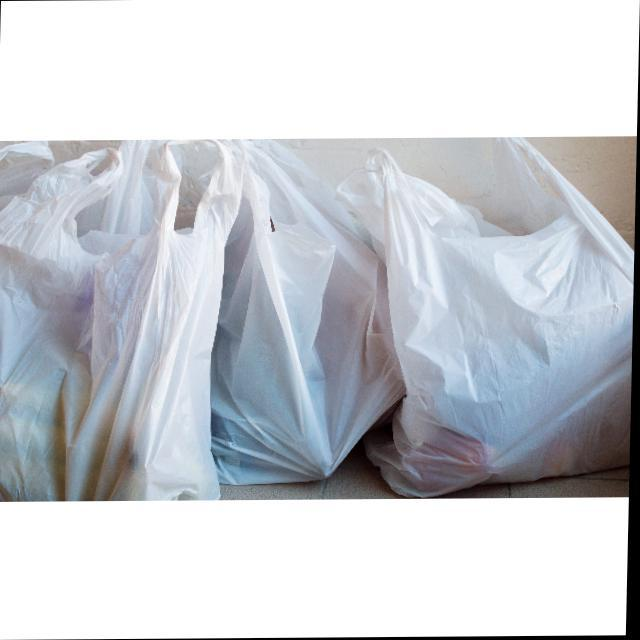Single-layer Plastic: (340, 139, 632, 496), (0, 141, 244, 499), (212, 141, 402, 484)
